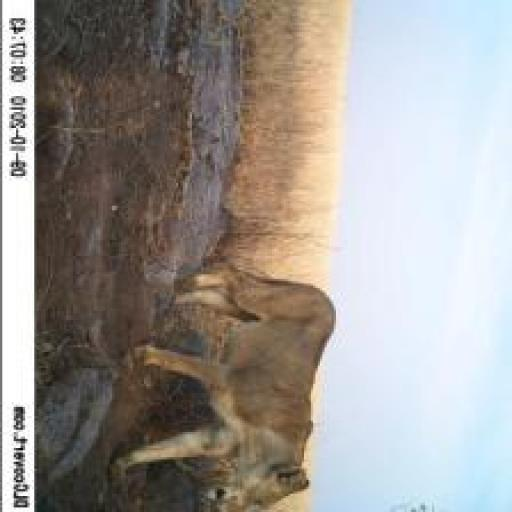lion: (124, 244, 348, 508)
